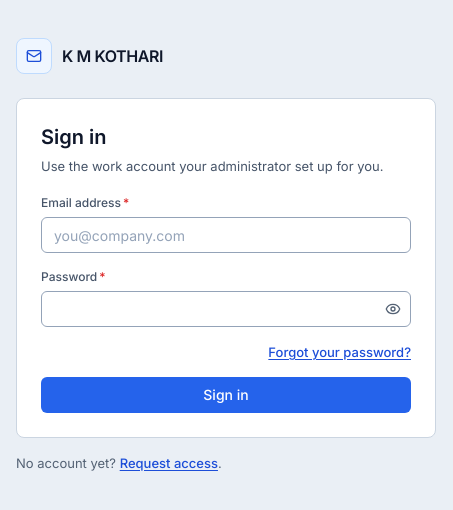
Test: Login › turns a 400 { errors: [{ path, message }] } into inline field messages
Type "asha@example.com" into the field labelled "Email address*" at (226, 235), box [41,217,411,253]
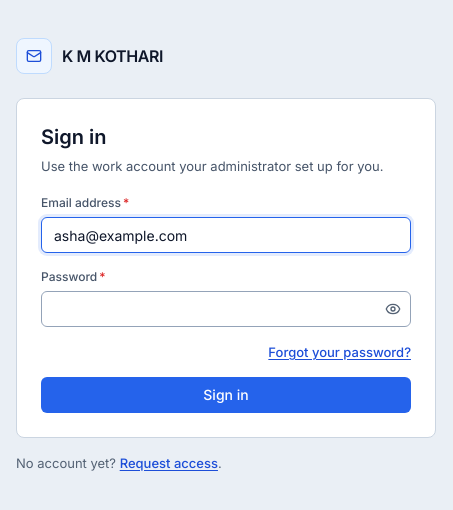
Type "short" into the password field labelled "Password*" at (226, 309), box [41,291,411,327]
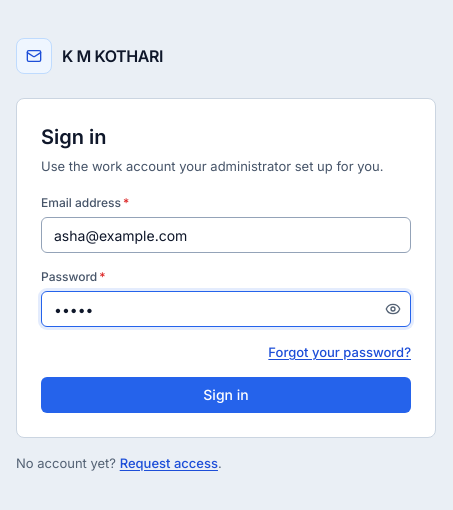
Click the button "Sign in" at (226, 395), box [41,377,411,413]
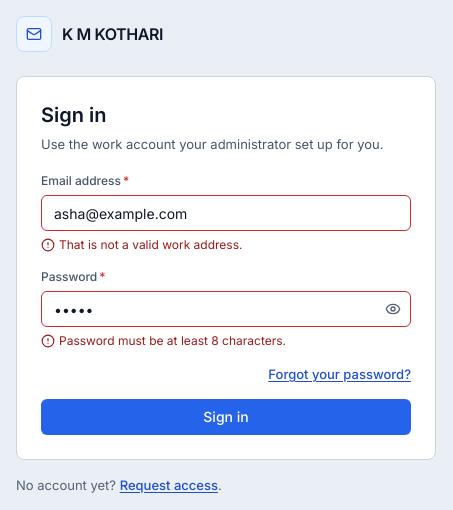
Result: the text "That is not a valid work address." is shown at [59,237,242,253]
Result: the text "Password must be at least 8 characters." is shown at [59,333,286,349]
